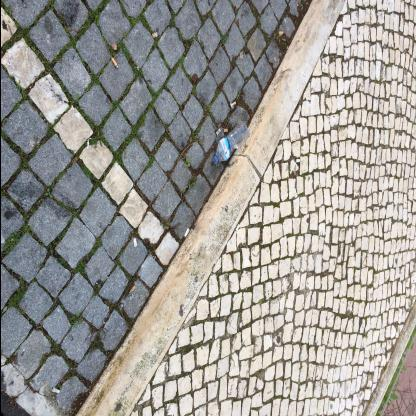plastik: (213, 123, 249, 165)
